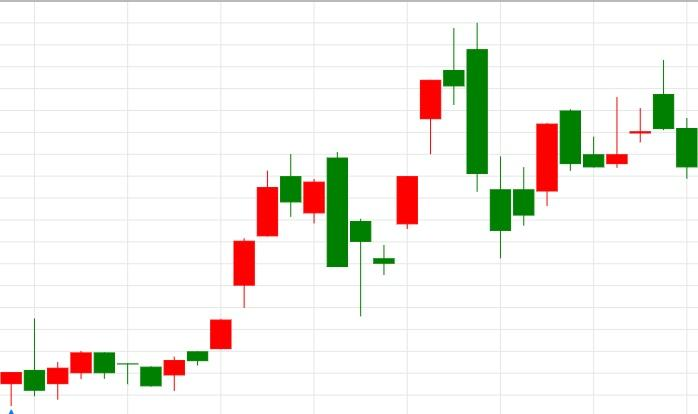morning_star_rise: (281, 151, 418, 316)
